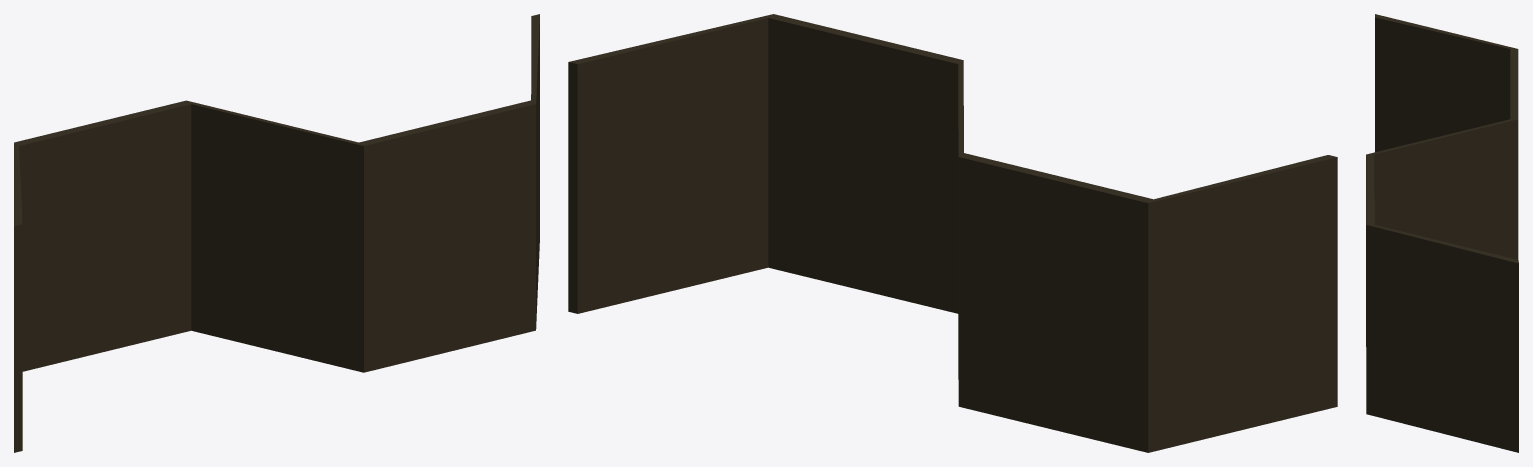
The model's file is Stage1Walls4.fbx.
The picture shows the model from 3 angles, left to right: view 1: azimuth 30°, elevation 25°; view 2: azimuth 150°, elevation 25°; view 3: azimuth 270°, elevation 25°; orthographic projection. The views are drawn at different scales.
Parts seen in each view (by area): view 1: Walls4; view 2: Walls4; view 3: Walls4.
Boxes of the visible parts, <box> form: Walls4: <box>14,14,539,452</box>; Walls4: <box>568,14,1337,452</box>; Walls4: <box>1366,14,1518,452</box>.
Bounding box in the file's own units: 32.05 × 11.34 × 8.29.
